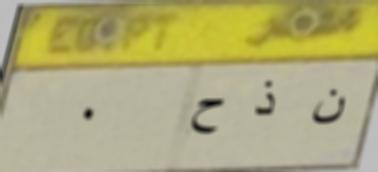0: (71, 93, 111, 130)
7aa: (181, 91, 233, 139)
noon: (300, 82, 356, 135)
zaal: (242, 72, 286, 125)
